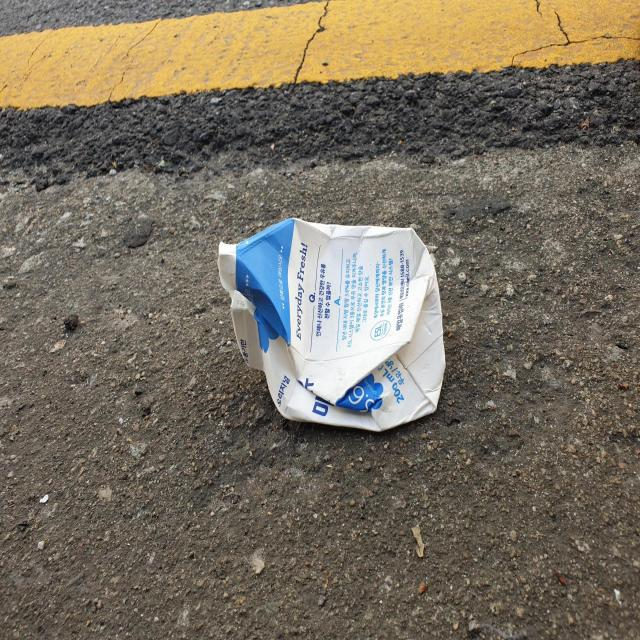paperpack: (218, 218, 446, 431)
